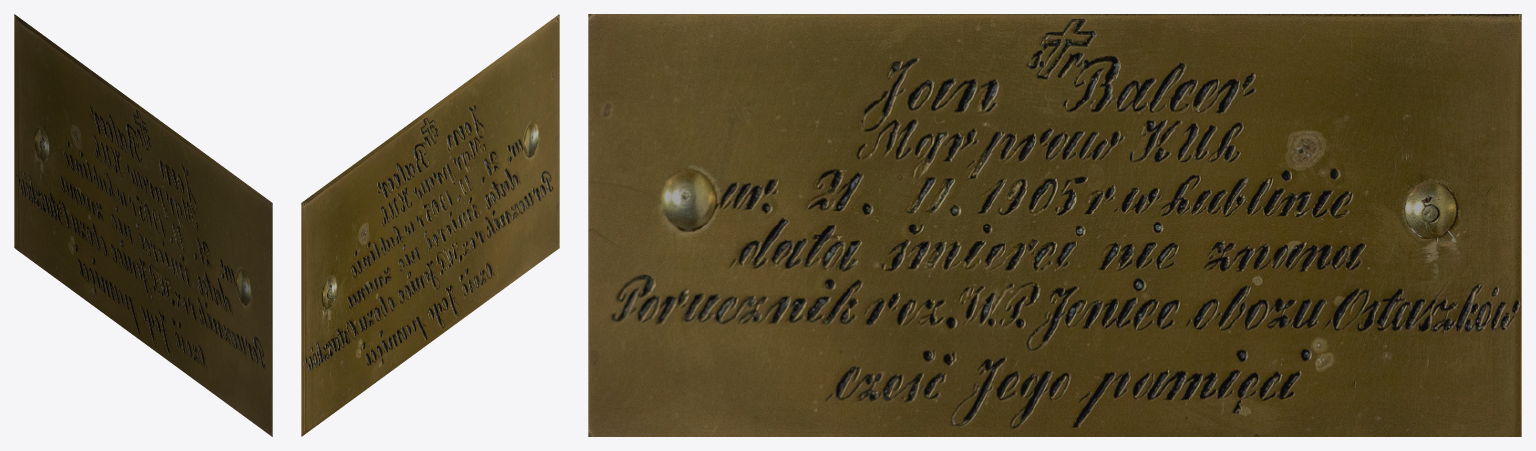
The model's file is 70. Ś.P. JAN BALCER.glb.
The picture shows the model from 3 angles, left to right: view 1: azimuth 30°, elevation 25°; view 2: azimuth 150°, elevation 25°; view 3: azimuth 270°, elevation 25°; orthographic projection. The views are drawn at different scales.
Visible parts, largest first — view 1: Plane; view 2: Plane; view 3: Plane.
Part boxes in pixels (left/top/right/bottom): Plane: left=14, top=14, right=272, bottom=436; Plane: left=301, top=14, right=559, bottom=436; Plane: left=588, top=14, right=1521, bottom=436.
Bounding box in the file's own units: 0.0102 × 7 × 14.
Materials: 1 (1 with a texture image).
